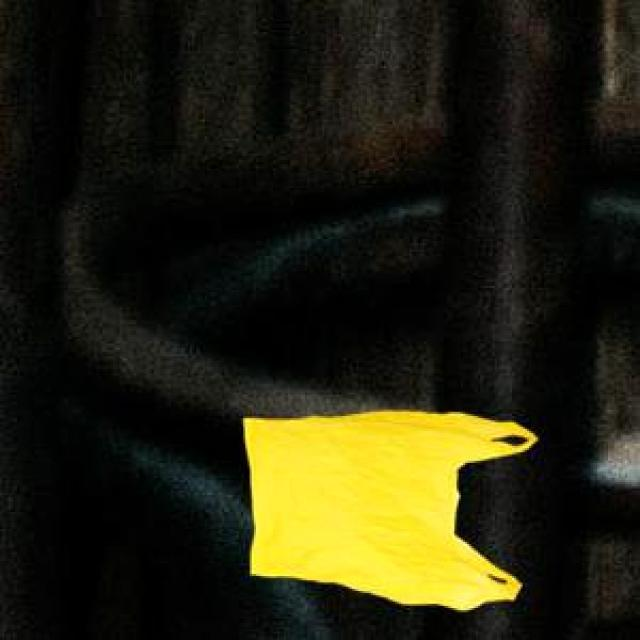Plastic_Bag: (240, 408, 534, 607)
